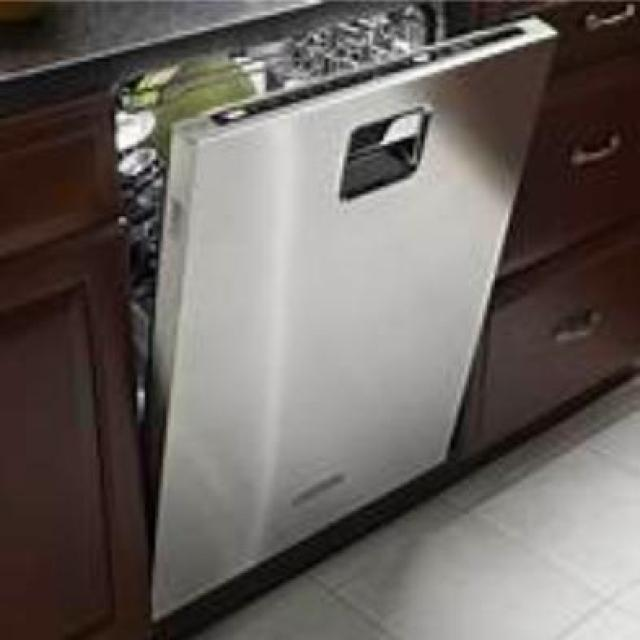dishwasher: (117, 2, 557, 620)
